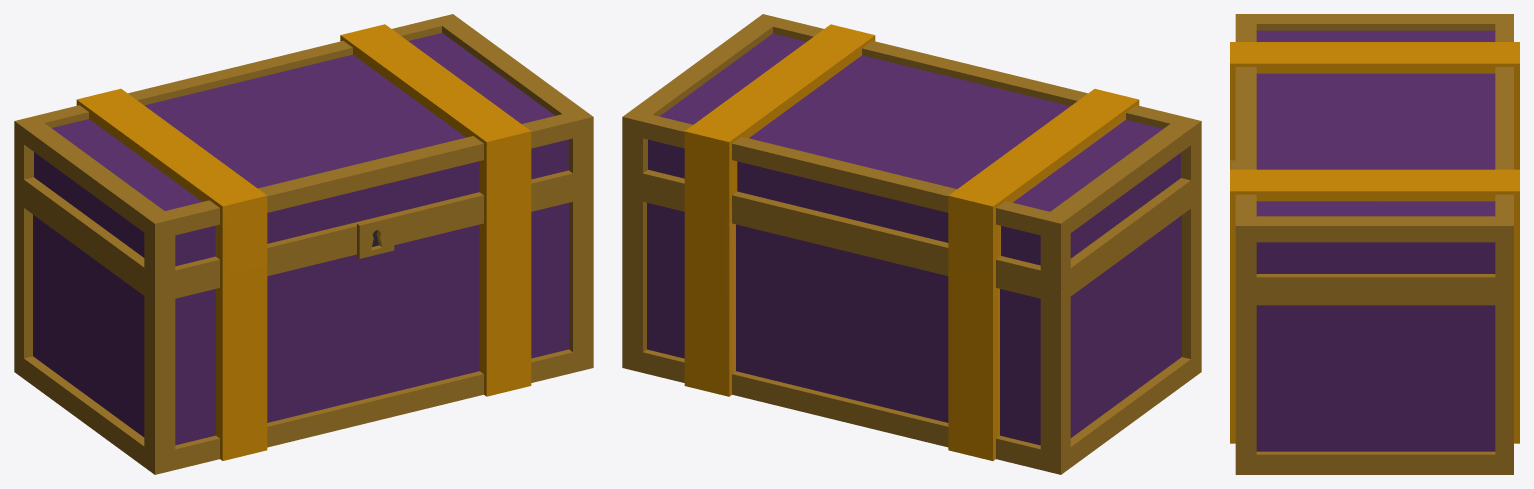
File: Cofre-Épico.fbx
3 renders of one model, left to right at view 1: azimuth 30°, elevation 25°; view 2: azimuth 150°, elevation 25°; view 3: azimuth 270°, elevation 25°, orthographic.
Parts seen in each view (by area): view 1: Cube.006, Cube.003; view 2: Cube.006, Cube.003; view 3: Cube.003, Cube.006.
Boxes of the visible parts, x1,y1,x2,y2 form: Cube.006: (14, 183, 593, 474); Cube.003: (14, 14, 593, 289); Cube.006: (622, 183, 1201, 474); Cube.003: (622, 14, 1201, 289); Cube.003: (1230, 14, 1519, 291); Cube.006: (1230, 132, 1519, 474).
Size of the model in its own units: 262 by 145 by 151.
